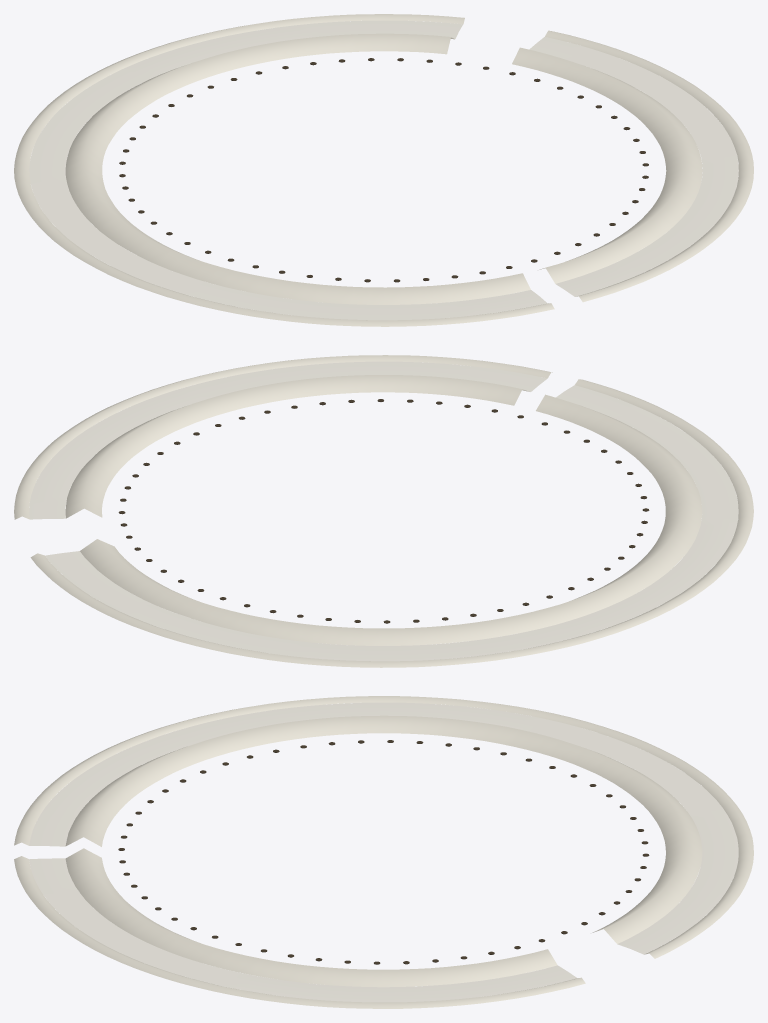
File: stonehenge-site-b15.glb
3 renders of one model, top to bottom at view 1: azimuth 30°, elevation 25°; view 2: azimuth 150°, elevation 25°; view 3: azimuth 270°, elevation 25°, orthographic.
Bounding box in the file's own units: 122 × 1.79 × 122.
